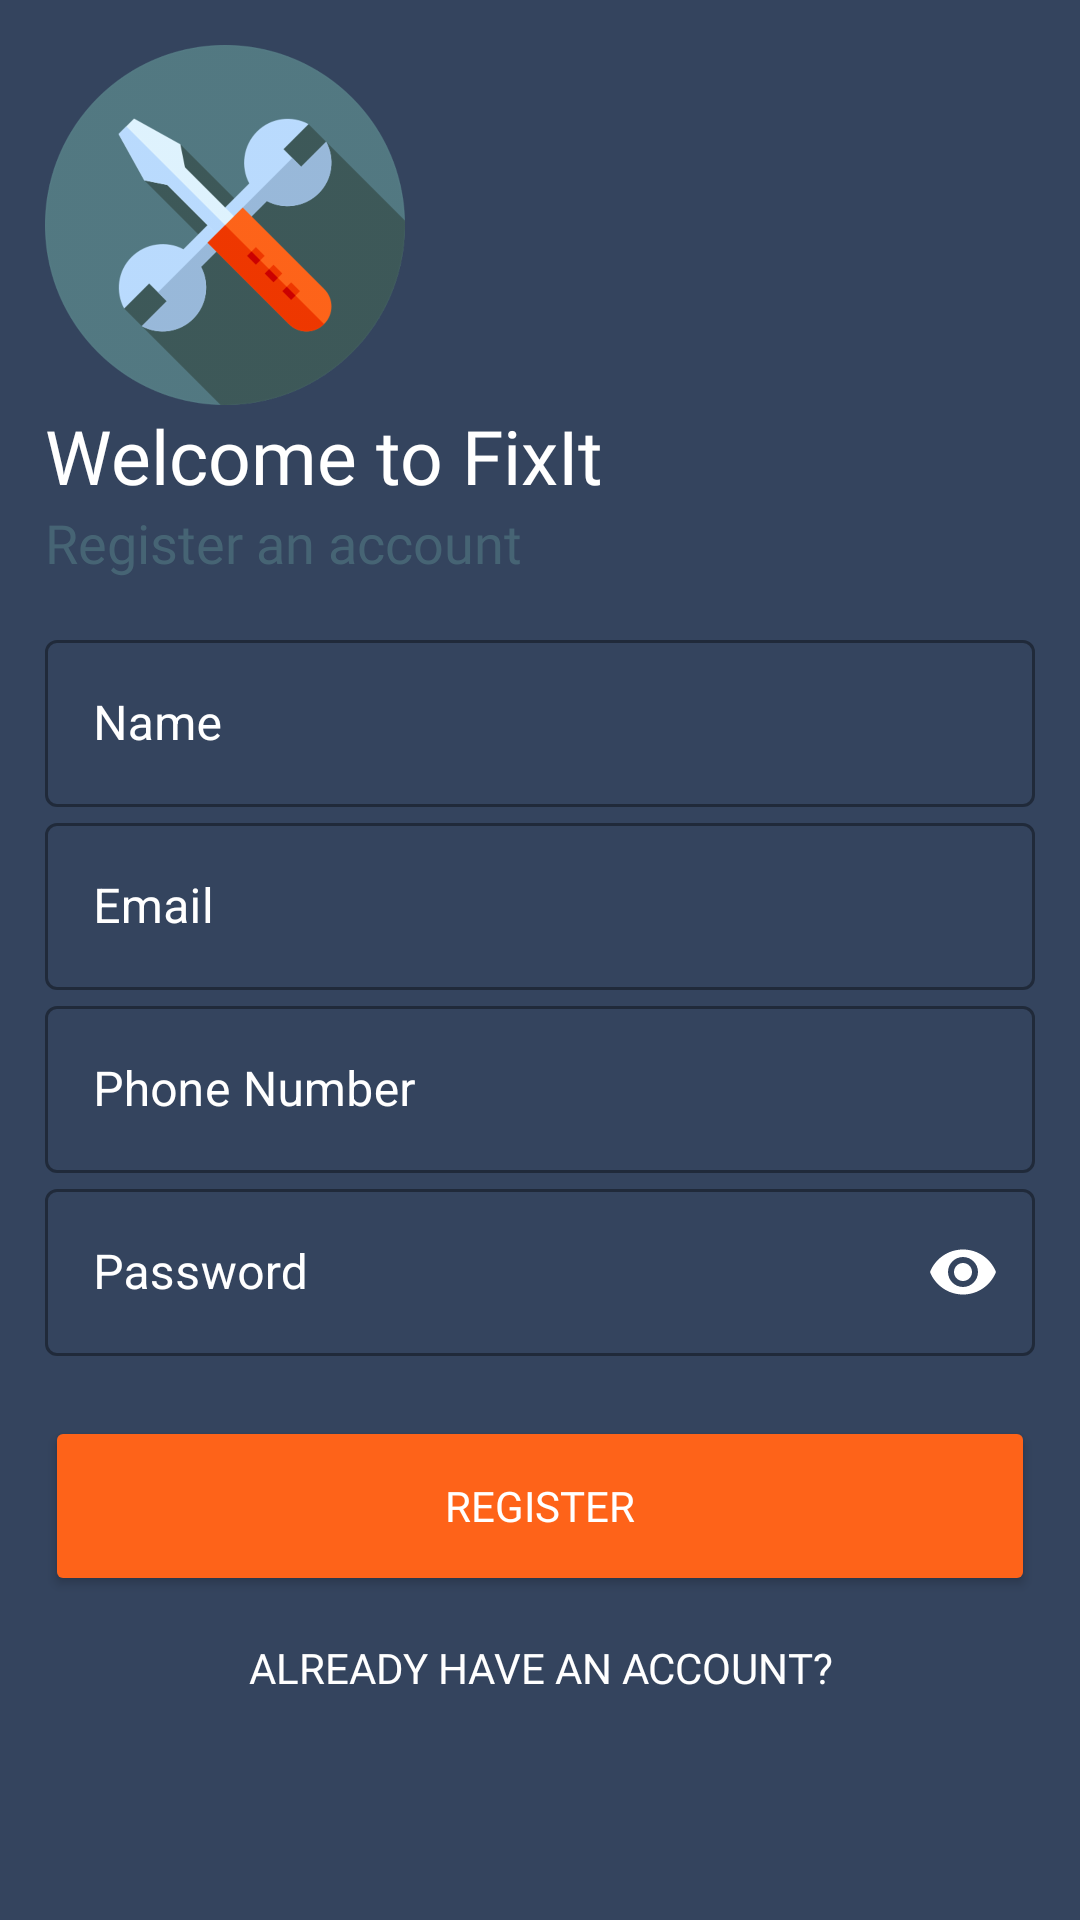

Named icons in this screenshot (1080w x 1920h) and their bounding boxes, (x1, y1, x2, y2):
app: (45, 45, 405, 405)
